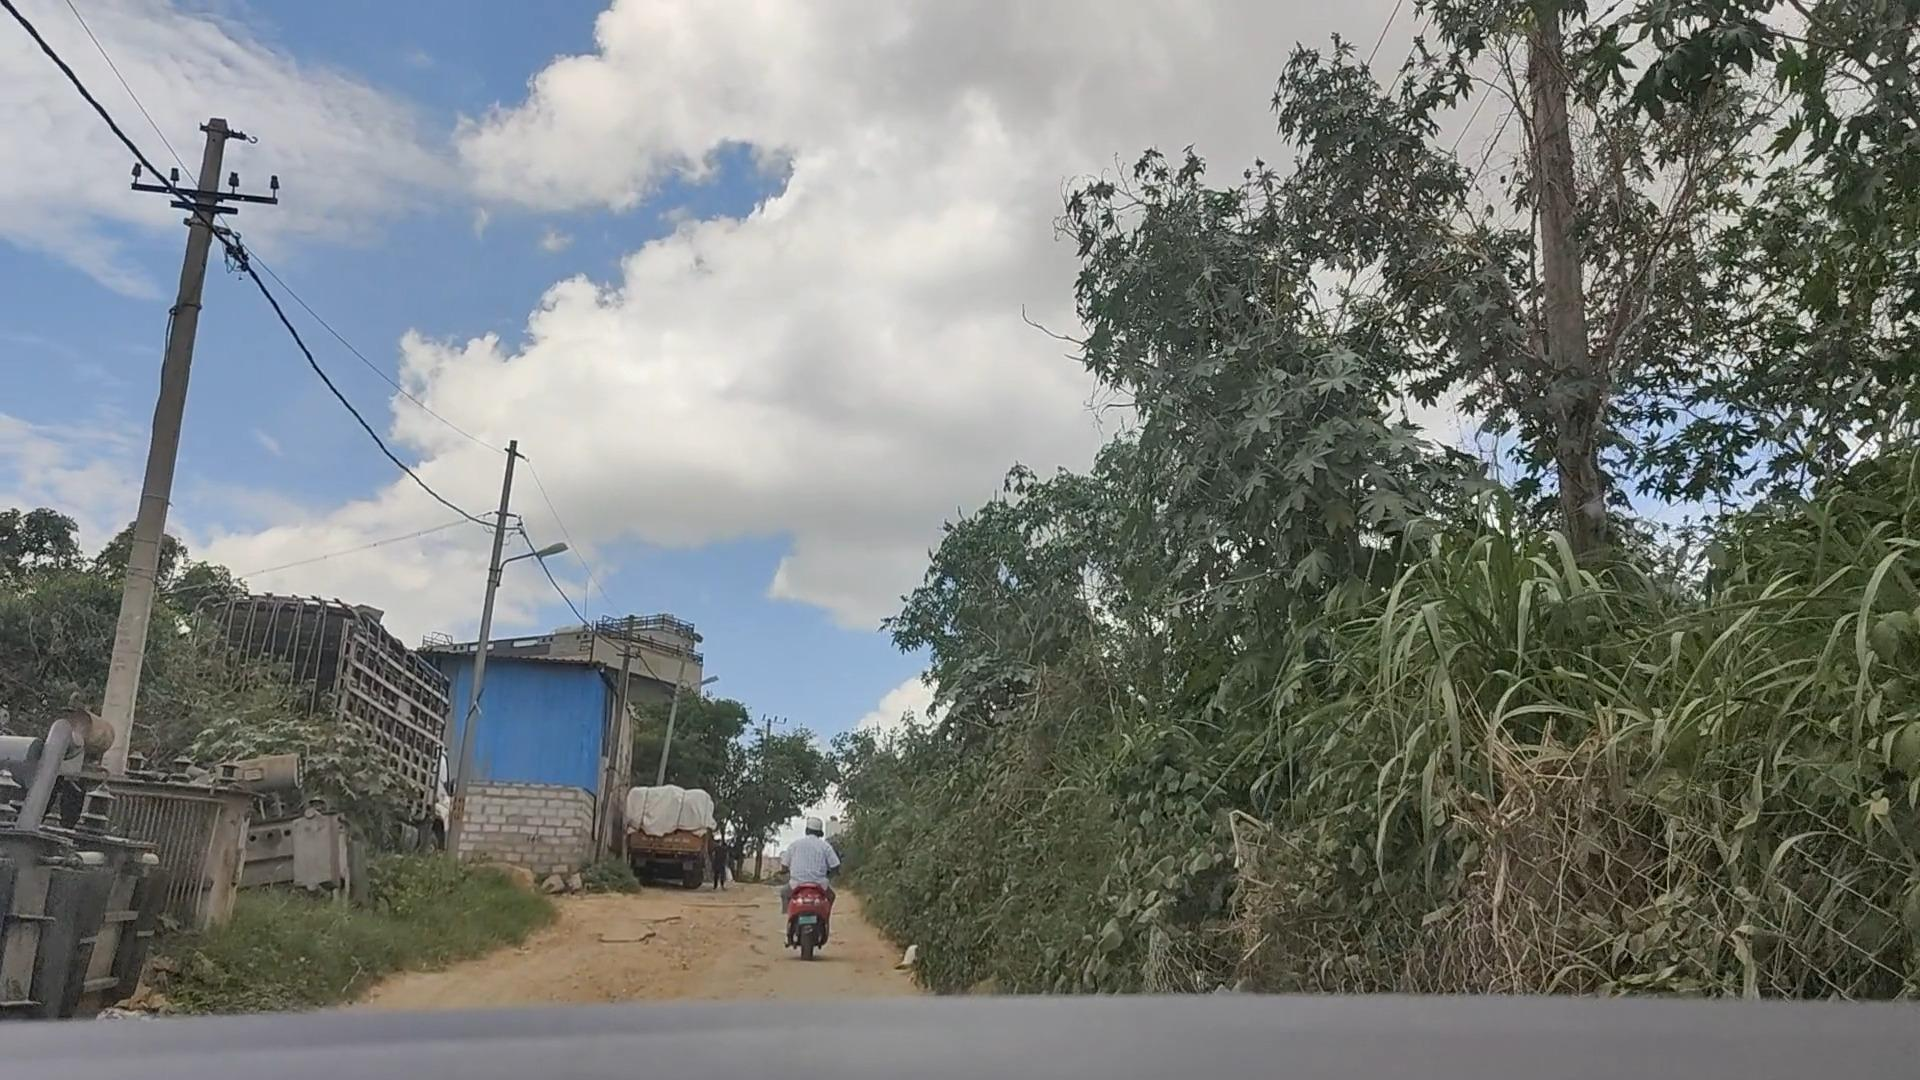HMV: (613, 774, 713, 893)
UnsurfacedRoad: (506, 897, 753, 994)
